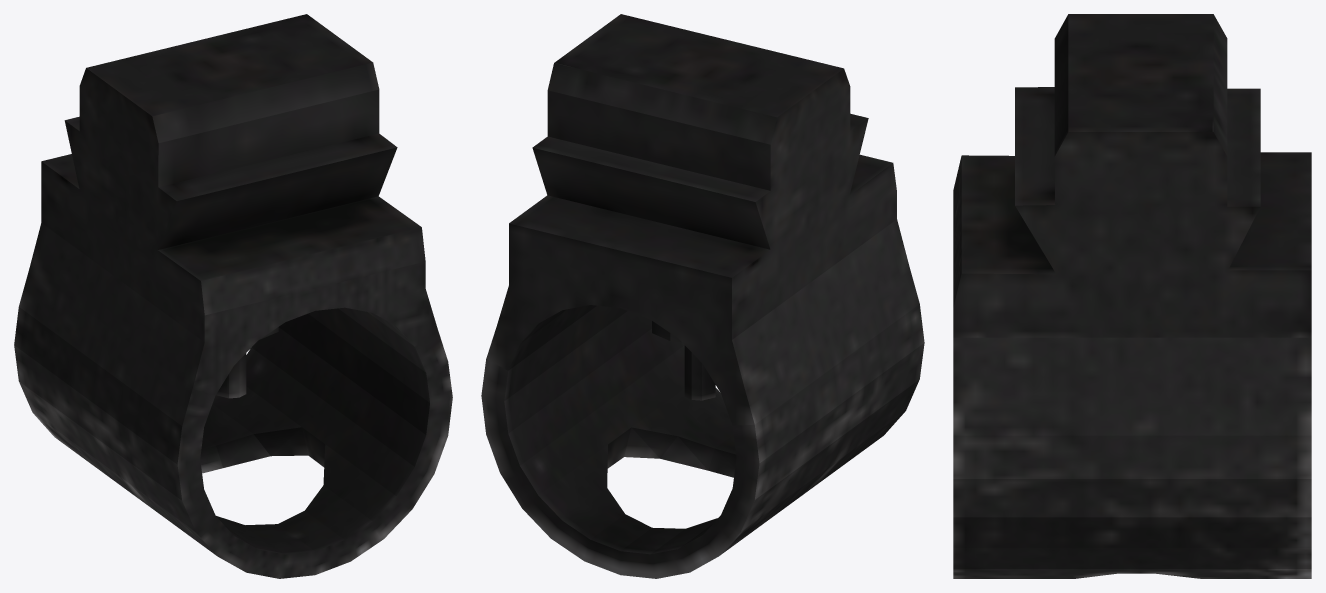
The picture shows the model from 3 angles, left to right: view 1: azimuth 30°, elevation 25°; view 2: azimuth 150°, elevation 25°; view 3: azimuth 270°, elevation 25°; orthographic projection. The views are drawn at different scales.
Visible parts, largest first — view 1: TW_5c471ba12e221602b3137d76_PZ_Import; view 2: TW_5c471ba12e221602b3137d76_PZ_Import; view 3: TW_5c471ba12e221602b3137d76_PZ_Import.
Boxes of the visible parts, x1,y1,x2,y2 form: TW_5c471ba12e221602b3137d76_PZ_Import: [14, 14, 452, 578]; TW_5c471ba12e221602b3137d76_PZ_Import: [481, 14, 924, 578]; TW_5c471ba12e221602b3137d76_PZ_Import: [953, 14, 1311, 578].
Size of the model in its own units: 0.0098 by 0.0101 by 0.0152.
Materials: 1 (1 with a texture image).
